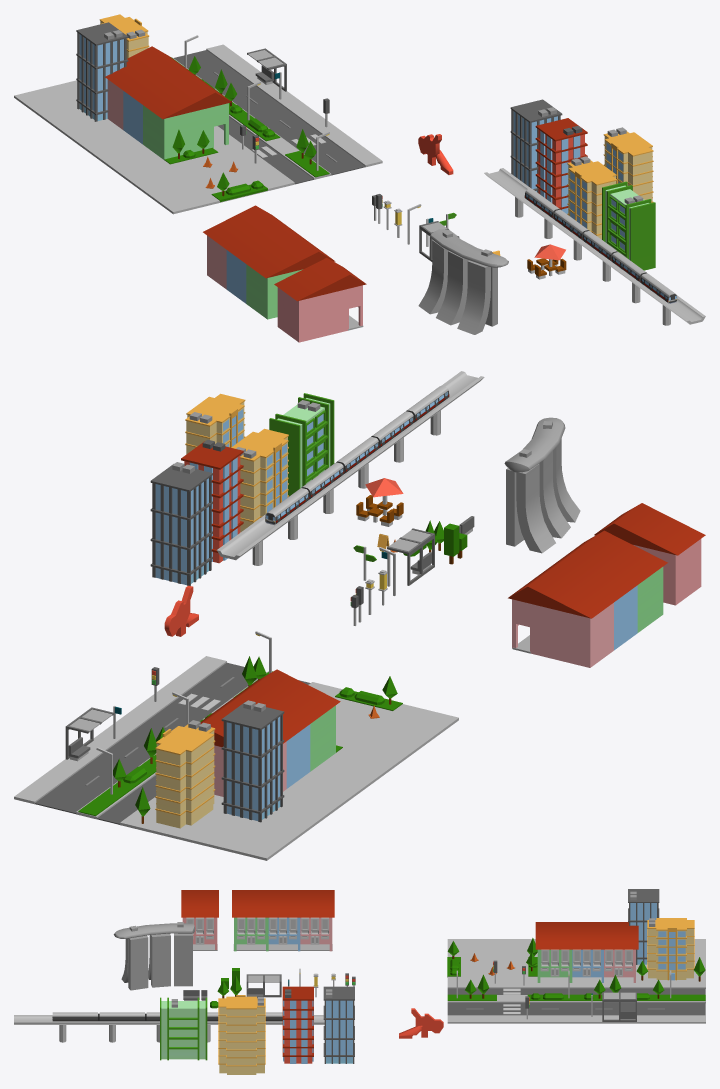
File: City start.fbx
3 views of the same model, one above another, from view 1: azimuth 30°, elevation 25°; view 2: azimuth 150°, elevation 25°; view 3: azimuth 270°, elevation 25° (orthographic). The views are drawn at different scales.
Parts seen in each view (by area): view 1: pCube349, pCube88, pCube351, pCube373, pCube70, pCube350, pCube151 (×2), pCube227, pCube376, pCube71, pCube9, pCube397 (+29 smaller); view 2: pCube373, pCube349, pCube88, pCube108, pCube413, pCube351, pCube376, pCube201, pCube397, pCube71, pCube227, pCube151 (×2) (+28 smaller); view 3: pCube349, pCube151, pCube88, pCube351, pCube109, pCube227, pCube376, pCube413, pCube201, pCube234, pCube10, pCube8 (+36 smaller).
Boxes of the visible parts, <box> form: pCube349: <box>93,140,277,214</box>; pCube88: <box>203,205,335,278</box>; pCube351: <box>105,46,231,119</box>; pCube373: <box>14,80,139,155</box>; pCube70: <box>277,285,362,342</box>; pCube350: <box>143,103,228,159</box>; pCube151 (×2): <box>568,136,652,239</box>; pCube227: <box>253,108,365,175</box>; pCube376: <box>173,50,285,115</box>; pCube71: <box>274,257,366,301</box>; pCube9: <box>457,260,490,334</box>; pCube397: <box>79,34,123,120</box>; pCube373: <box>140,774,363,860</box>; pCube349: <box>307,687,458,790</box>; pCube88: <box>508,530,667,618</box>; pCube108: <box>512,599,613,667</box>; pCube413: <box>156,730,214,828</box>; pCube351: <box>200,669,340,746</box>; pCube376: <box>35,733,155,813</box>; pCube201: <box>155,478,208,585</box>; pCube397: <box>227,716,280,820</box>; pCube71: <box>594,503,705,555</box>; pCube227: <box>131,662,266,738</box>; pCube151 (×2): <box>186,402,287,532</box>; pCube349: <box>447,939,576,980</box>; pCube151: <box>219,1007,264,1074</box>; pCube88: <box>232,890,334,917</box>; pCube351: <box>535,922,638,949</box>; pCube109: <box>161,1001,205,1059</box>; pCube227: <box>447,1002,576,1015</box>; pCube376: <box>576,1002,705,1015</box>; pCube413: <box>648,929,693,979</box>; pCube201: <box>326,1000,352,1063</box>; pCube234: <box>447,1015,576,1023</box>; pCube10: <box>128,935,148,990</box>; pCube8: <box>151,933,170,987</box>.
Size of the model in its own units: 22.34 by 4.88 by 43.01.
